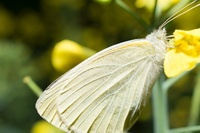insect: (36, 0, 199, 132)
